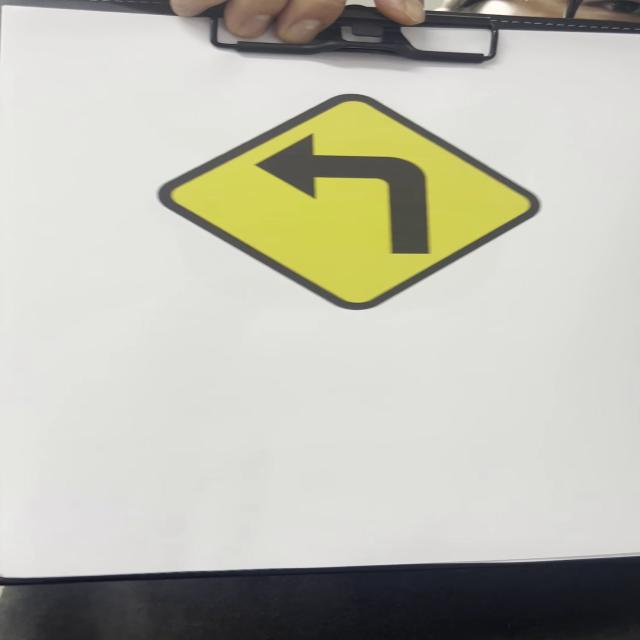left: (167, 89, 540, 311)
